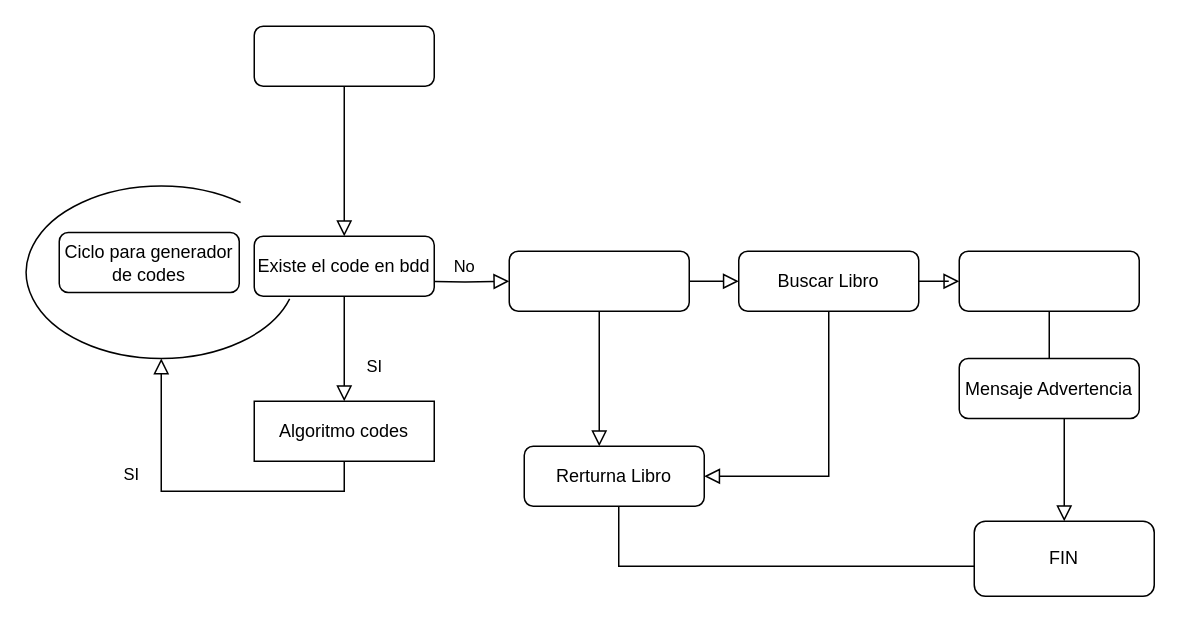
Some shapes in this 1181 by 623 pixel diagram are drawn without their labels. Here are the shapes that lost their labels. From the top down, the centre of each, then its label:
pixel 343 55: Crear Libro
pixel 598 280: Inserta Libro
pixel 1048 280: Eliminar Libro
